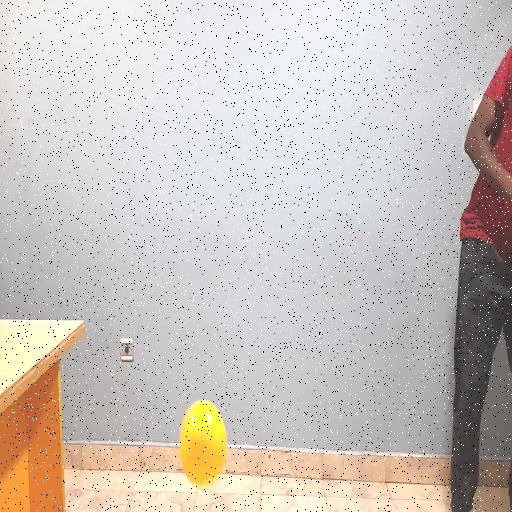plastic-ball: (179, 401, 225, 486)
